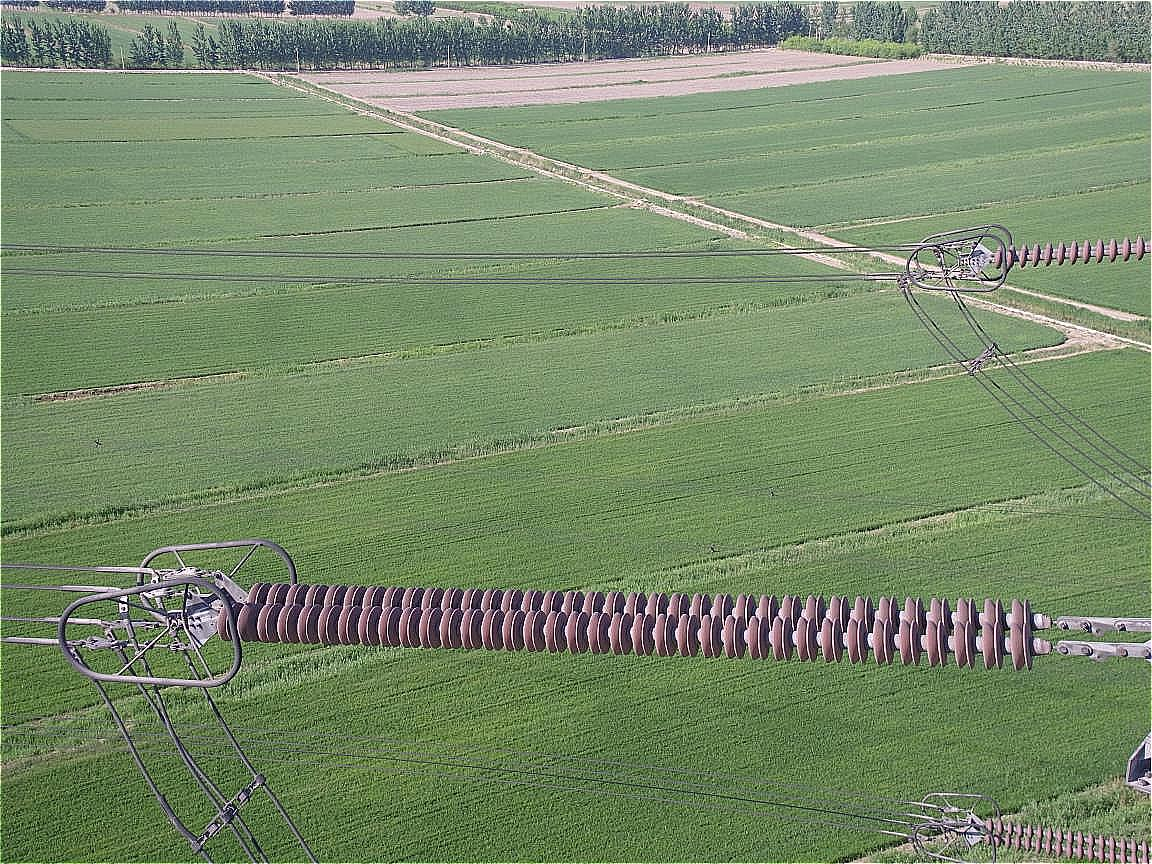insultor2: (219, 579, 1039, 669)
